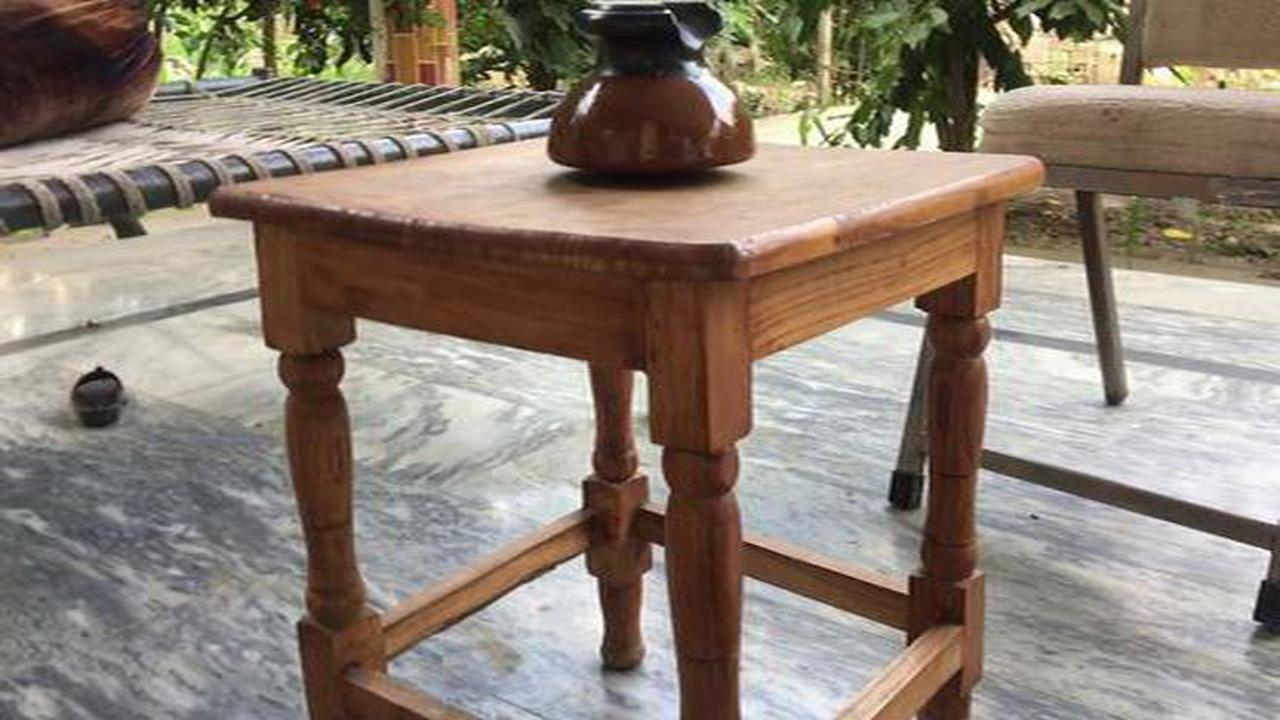insulator_pin: (545, 11, 767, 187)
